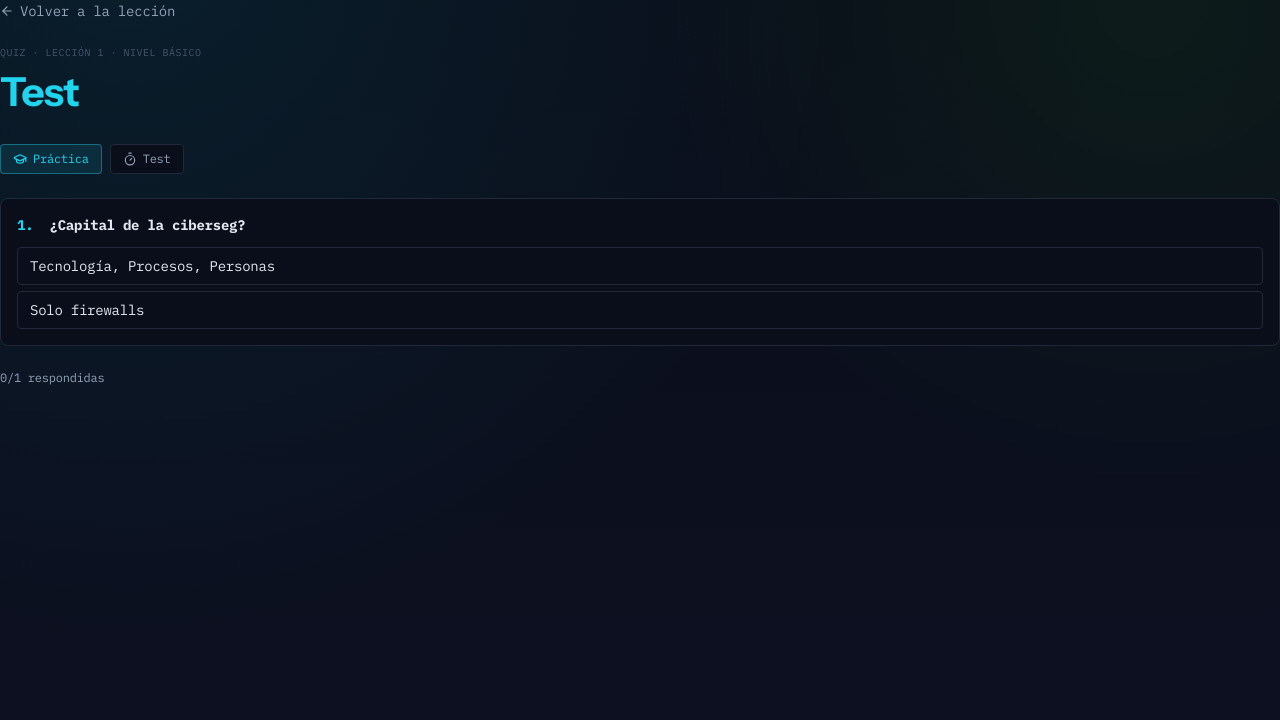
QuizRunner — modo práctica › da feedback inmediato y muestra la explicación al responder
expect the text "Combina los tres" is not shown: met
Click the button "Tecnología, Procesos, Personas" at (152, 266), box top-left (17, 247), bottom-right (1263, 285)
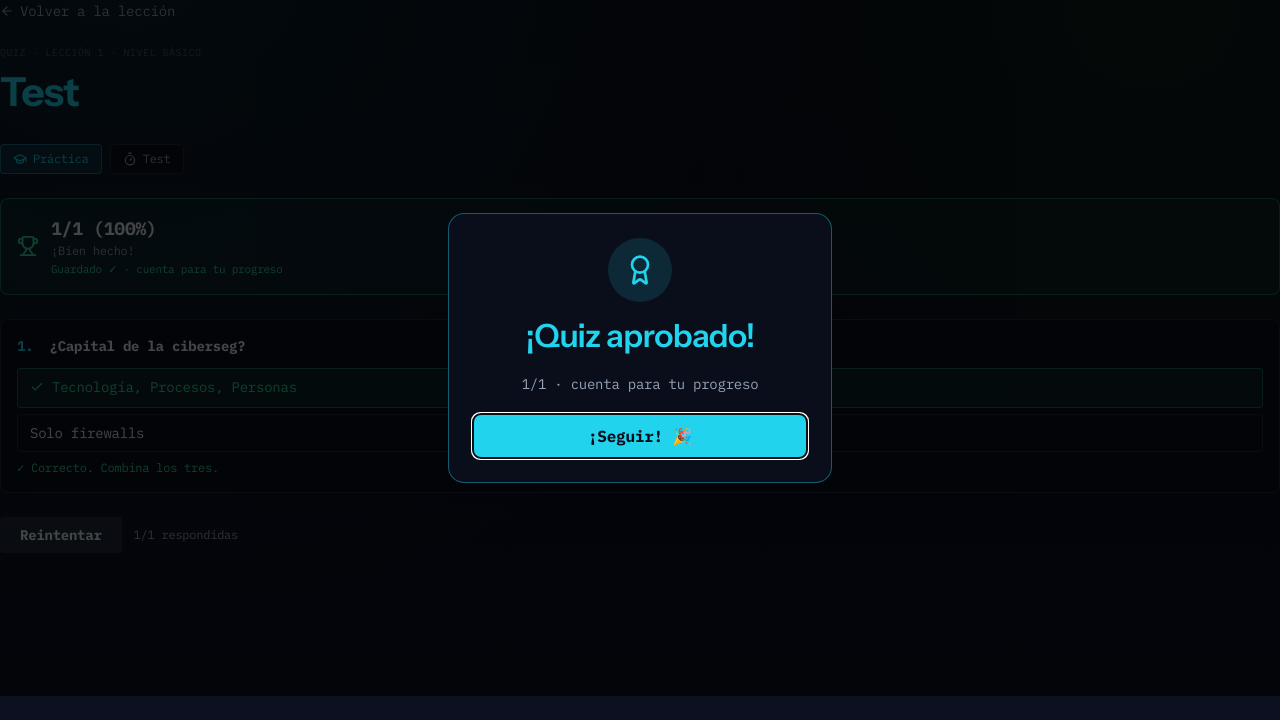
expect the text "✓ Correcto. Combina los tres." is shown: met, box top-left (17, 460), bottom-right (219, 474)
